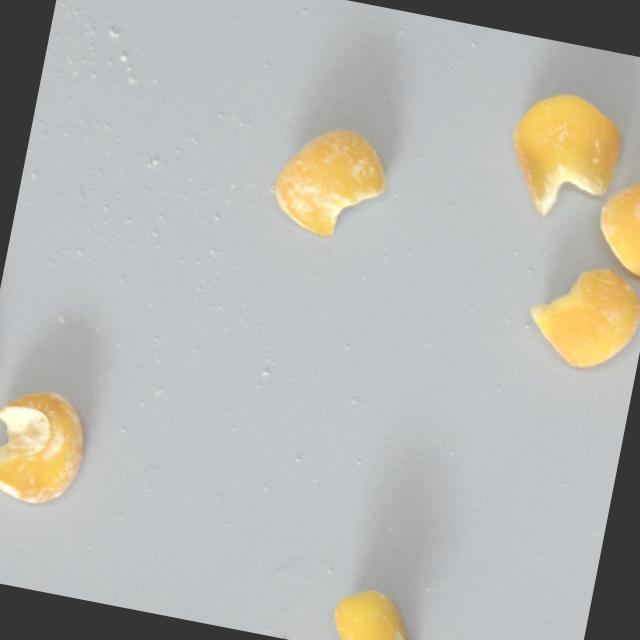pelicula: (499, 81, 627, 228), (263, 115, 394, 245), (520, 254, 640, 378), (0, 379, 93, 510), (590, 155, 640, 277), (326, 580, 427, 640)
